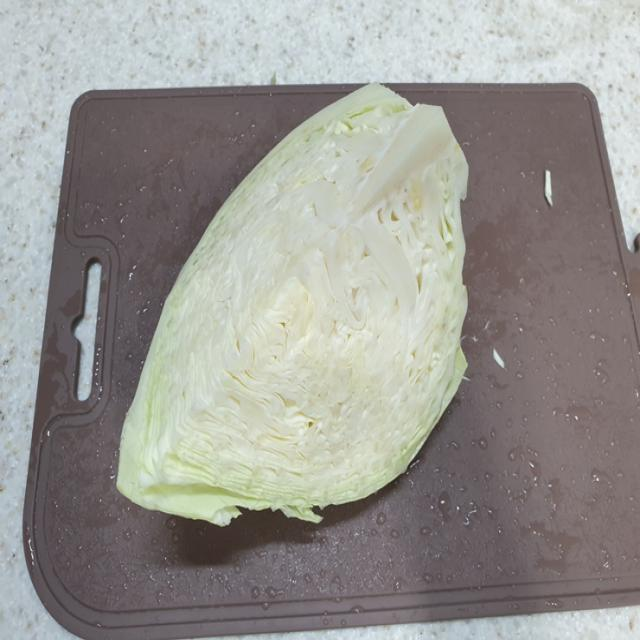cabbage: (114, 68, 470, 535)
